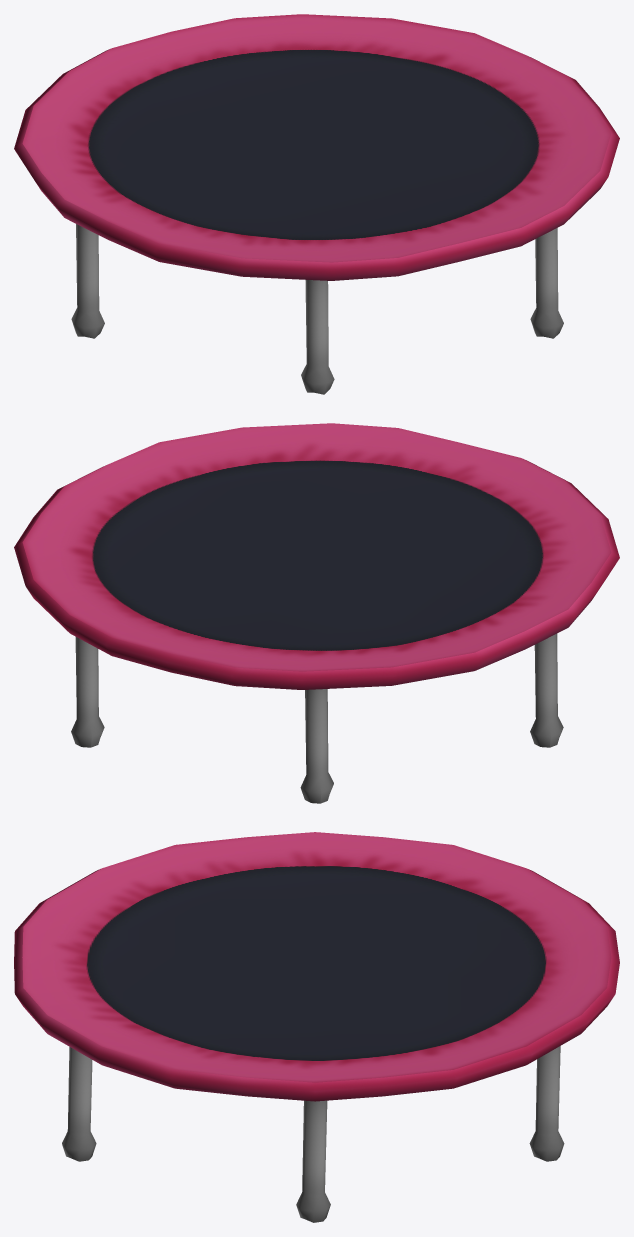
The model's file is tramporin.FBX.
3 renders of one model, top to bottom at view 1: azimuth 30°, elevation 25°; view 2: azimuth 150°, elevation 25°; view 3: azimuth 270°, elevation 25°, orthographic.
Parts seen in each view (by area): view 1: Plane001, Box006, Box005, Box007; view 2: Plane001, Box004, Box005, Box003; view 3: Plane001, Box002, Box003, Box007.
Boxes of the visible parts, x1=… form: Plane001: x1=14, y1=14, x2=619, y2=280; Box006: x1=301, y1=279, x2=334, y2=394; Box005: x1=71, y1=224, x2=104, y2=338; Box007: x1=530, y1=228, x2=563, y2=338; Plane001: x1=14, y1=423, x2=619, y2=689; Box004: x1=300, y1=689, x2=333, y2=803; Box005: x1=530, y1=633, x2=563, y2=747; Box003: x1=71, y1=637, x2=104, y2=747; Plane001: x1=14, y1=832, x2=619, y2=1101; Box002: x1=296, y1=1100, x2=330, y2=1222; Box003: x1=529, y1=1046, x2=564, y2=1161; Box007: x1=62, y1=1047, x2=96, y2=1161.
Size of the model in its own units: 107 by 27.39 by 106.
